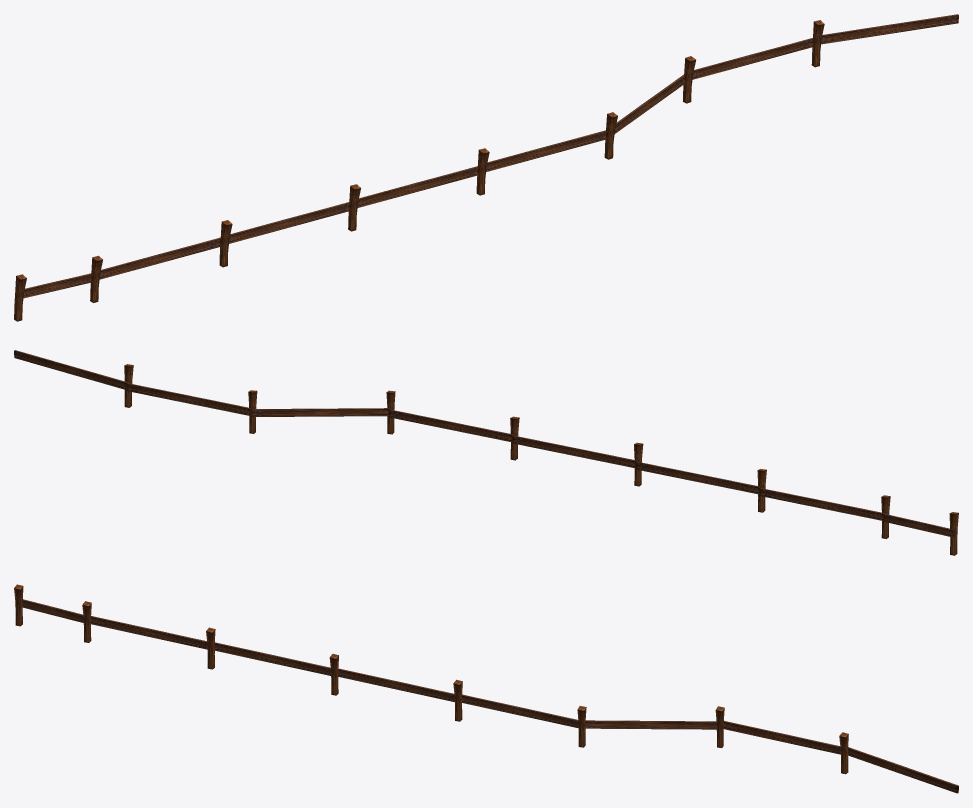
Rendered from EKH_ENTRANCE_PS_EN_FENCE_4884__GX.fbx.
The picture shows the model from 3 angles, top to bottom: view 1: azimuth 30°, elevation 25°; view 2: azimuth 150°, elevation 25°; view 3: azimuth 330°, elevation 25°; orthographic projection. The views are drawn at different scales.
Parts seen in each view (by area): view 1: EKH_ENTRANCE_PS_EN_FENCE_4884__GX; view 2: EKH_ENTRANCE_PS_EN_FENCE_4884__GX; view 3: EKH_ENTRANCE_PS_EN_FENCE_4884__GX.
Part boxes in pixels (<box>): EKH_ENTRANCE_PS_EN_FENCE_4884__GX: <box>14,14,958,321</box>; EKH_ENTRANCE_PS_EN_FENCE_4884__GX: <box>14,350,958,555</box>; EKH_ENTRANCE_PS_EN_FENCE_4884__GX: <box>14,584,958,793</box>.
Size of the model in its own units: 237152 by 10209 by 27836.
Materials: 3 (3 with a texture image).
